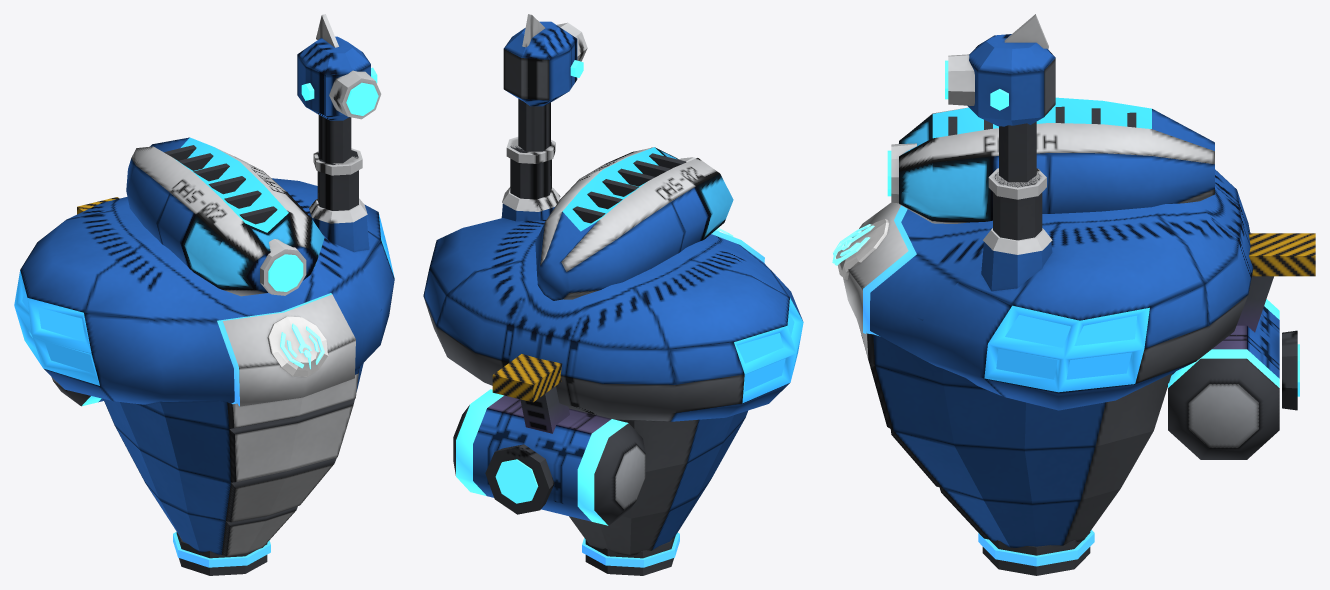
The model's file is ObservingTorsoX.glb.
3 renders of one model, left to right at view 1: azimuth 30°, elevation 25°; view 2: azimuth 150°, elevation 25°; view 3: azimuth 270°, elevation 25°, orthographic. The views are drawn at different scales.
Parts seen in each view (by area): view 1: ObservingTorsoX_Body, ObservingTorsoX_Head, ObservingTorsoX_Mast2, ObservingTorsoX_Mast0, ObservingTorsoX_Mast1; view 2: ObservingTorsoX_Body, ObservingTorsoX_Head, ObservingTorsoX_Mast2, ObservingTorsoX_Mast0, ObservingTorsoX_Mast1; view 3: ObservingTorsoX_Body, ObservingTorsoX_Head, ObservingTorsoX_Mast2, ObservingTorsoX_Mast0, ObservingTorsoX_Mast1.
Part boxes in pixels (bbox=[...]): ObservingTorsoX_Body: bbox=[14, 178, 394, 575]; ObservingTorsoX_Head: bbox=[126, 137, 324, 296]; ObservingTorsoX_Mast2: bbox=[297, 14, 381, 120]; ObservingTorsoX_Mast0: bbox=[313, 148, 362, 210]; ObservingTorsoX_Mast1: bbox=[318, 115, 351, 163]; ObservingTorsoX_Body: bbox=[423, 187, 803, 575]; ObservingTorsoX_Head: bbox=[535, 147, 733, 300]; ObservingTorsoX_Mast2: bbox=[503, 14, 587, 106]; ObservingTorsoX_Mast0: bbox=[506, 137, 555, 199]; ObservingTorsoX_Mast1: bbox=[518, 99, 550, 151]; ObservingTorsoX_Body: bbox=[832, 169, 1315, 575]; ObservingTorsoX_Head: bbox=[887, 97, 1214, 223]; ObservingTorsoX_Mast2: bbox=[945, 14, 1055, 126]; ObservingTorsoX_Mast0: bbox=[988, 168, 1046, 240]; ObservingTorsoX_Mast1: bbox=[999, 122, 1036, 182].
Size of the model in its own units: 10.54 by 14.65 by 10.79.
13 materials, 8 textured.
